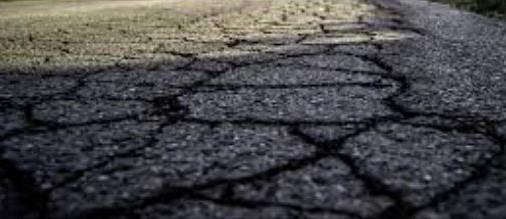alligator-crack: (0, 4, 482, 219)
